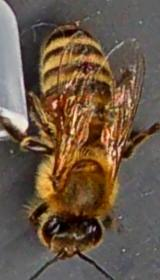varroa_mite: (44, 86, 68, 120)
